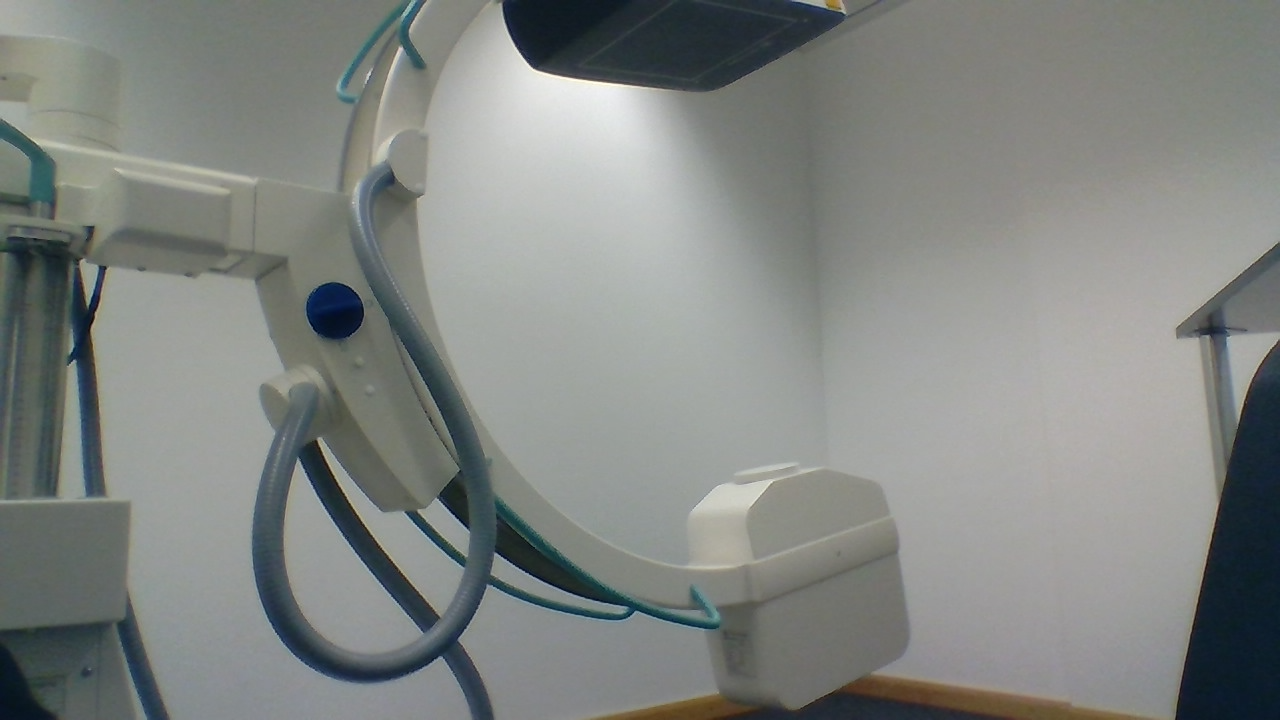carmDOWN: (683, 463, 895, 573)
carmLOCK: (303, 280, 370, 340)
